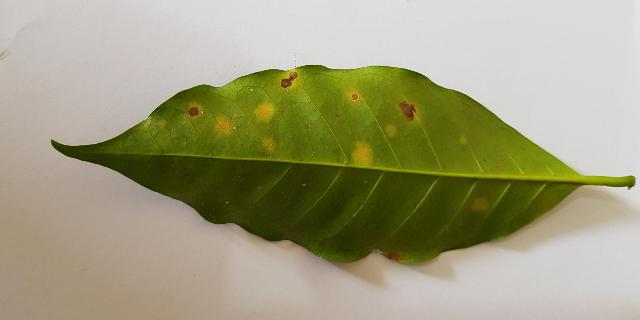miner: (397, 98, 420, 123), (274, 69, 300, 91), (353, 142, 371, 166), (214, 116, 236, 135), (254, 102, 276, 121), (345, 88, 365, 105), (187, 101, 204, 118), (262, 137, 275, 152), (472, 198, 487, 210), (385, 122, 396, 133), (387, 253, 400, 261), (460, 136, 466, 143)
